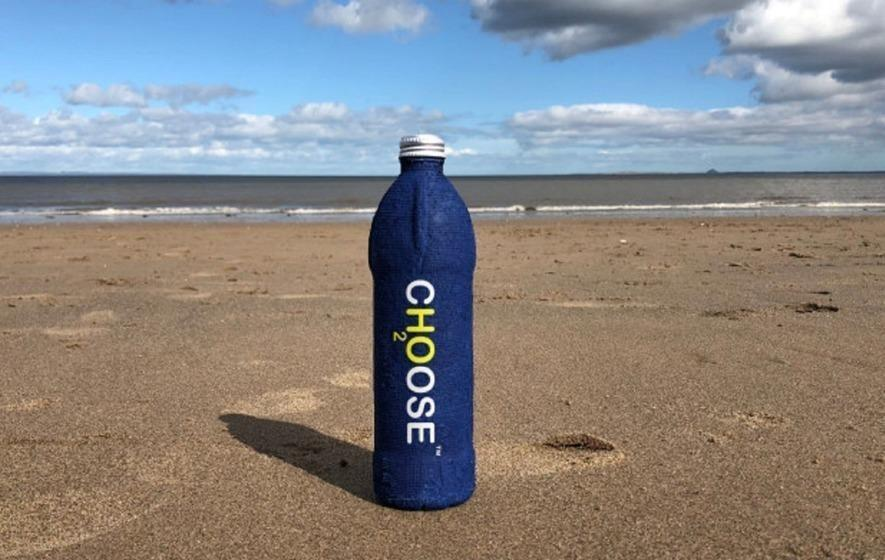bottle-plastic: (363, 128, 482, 512)
